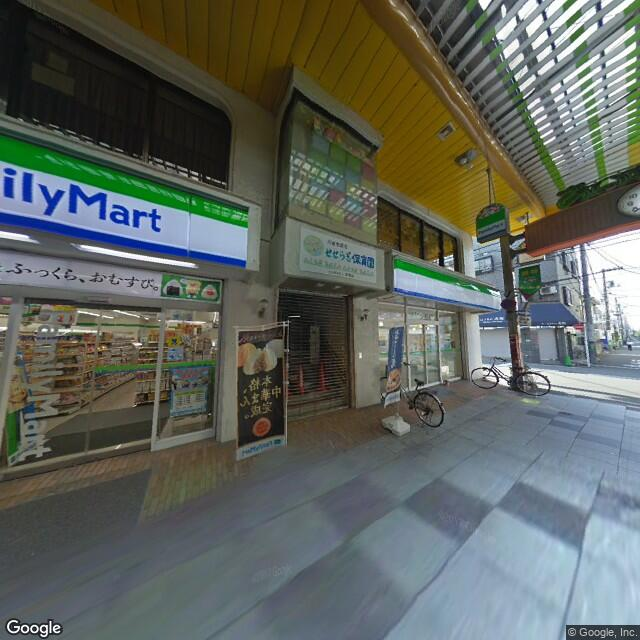family_mart: (2, 129, 248, 274), (393, 257, 504, 312)
